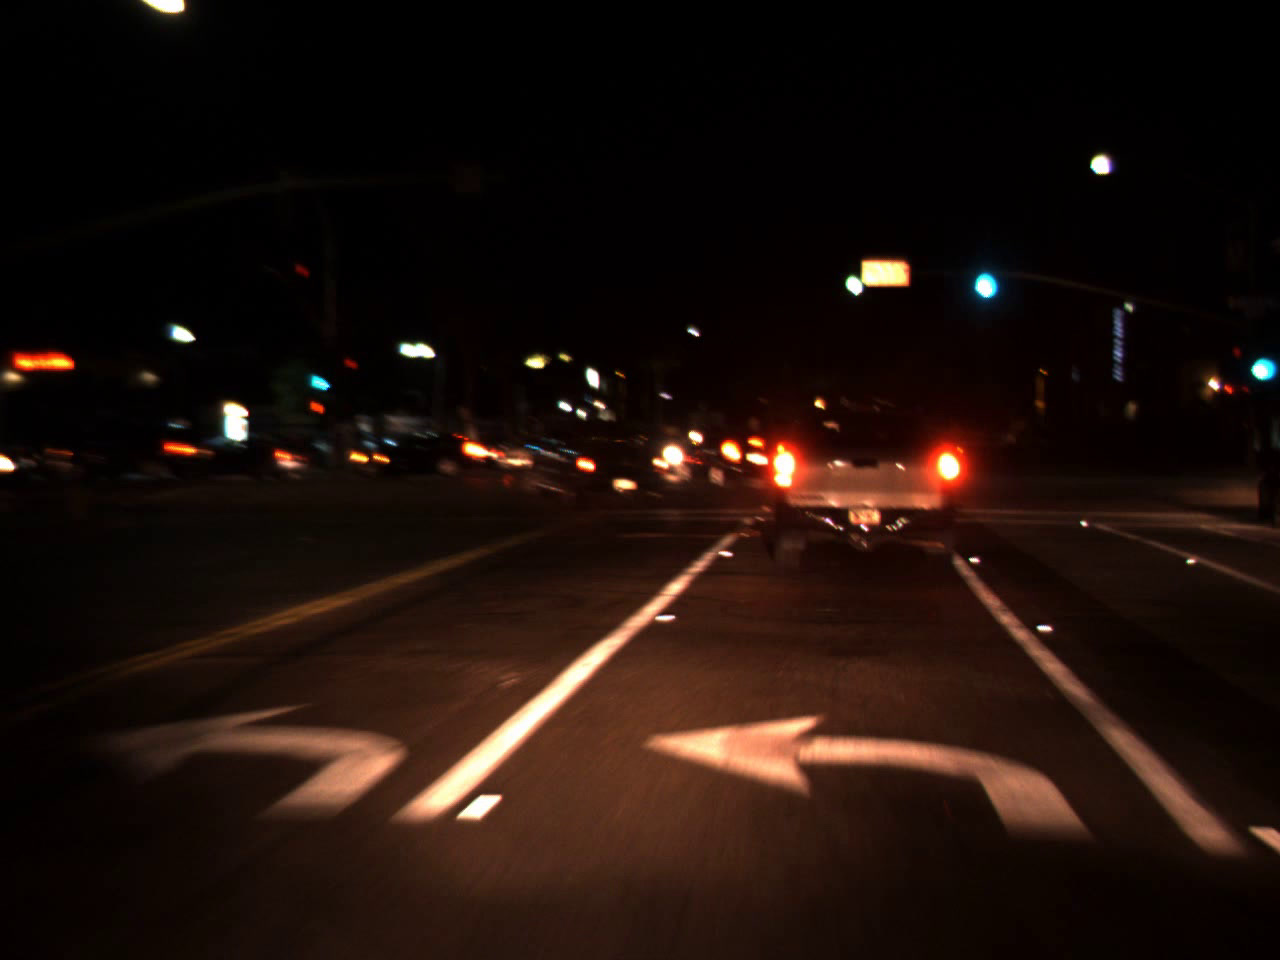go: (966, 238, 1002, 310), (841, 252, 866, 303), (306, 362, 333, 398)
